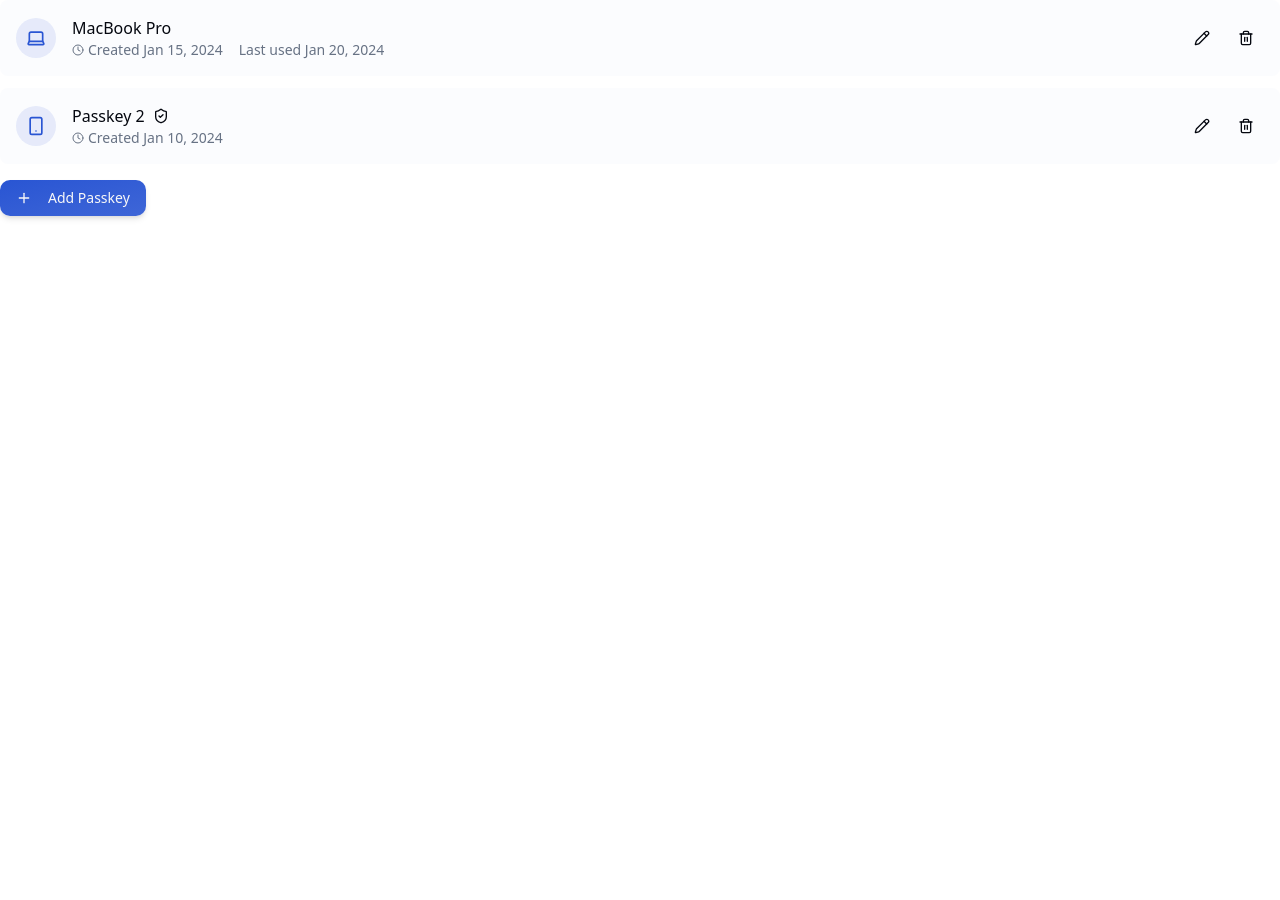
it: PasskeyList › opens delete dialog when delete button is clicked
Expected: the text "MacBook Pro" is shown, [72, 16, 171, 40]
Click the button with test id "delete-passkey-cred-1".
click(1246, 38)  # box [1228, 20, 1264, 56]
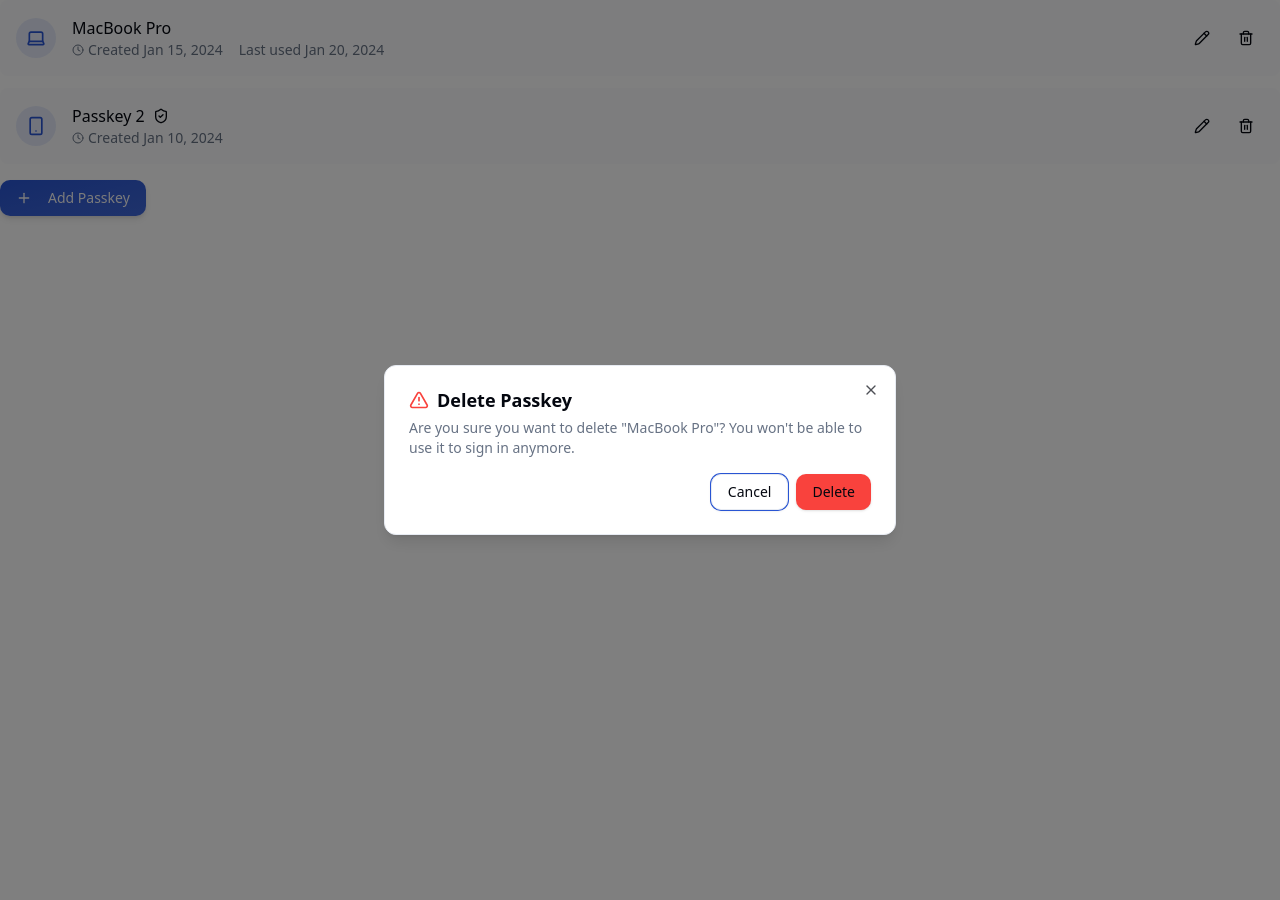
Now the dialog is shown, box [384, 365, 896, 535]
